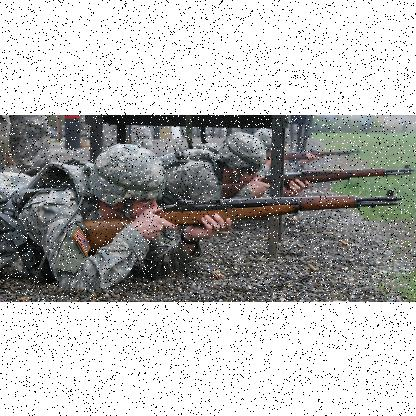gun: (81, 190, 401, 252), (216, 161, 414, 199), (266, 143, 362, 163)
